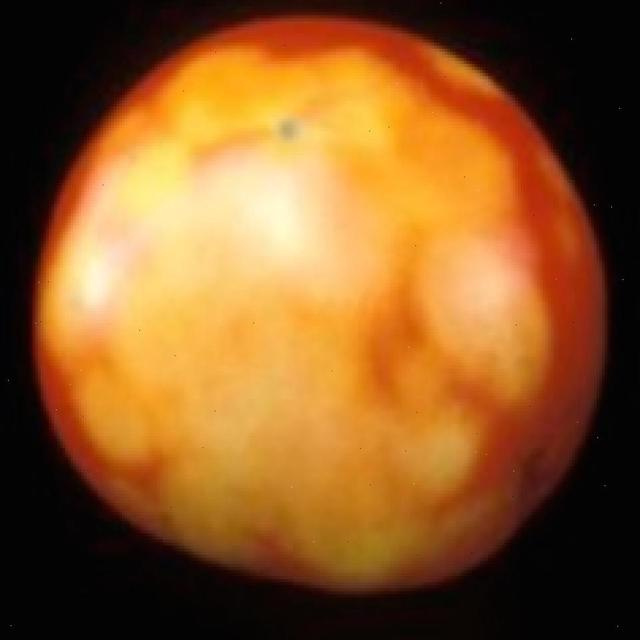Spotted wilt Virus Fruit: (10, 47, 37, 315)
